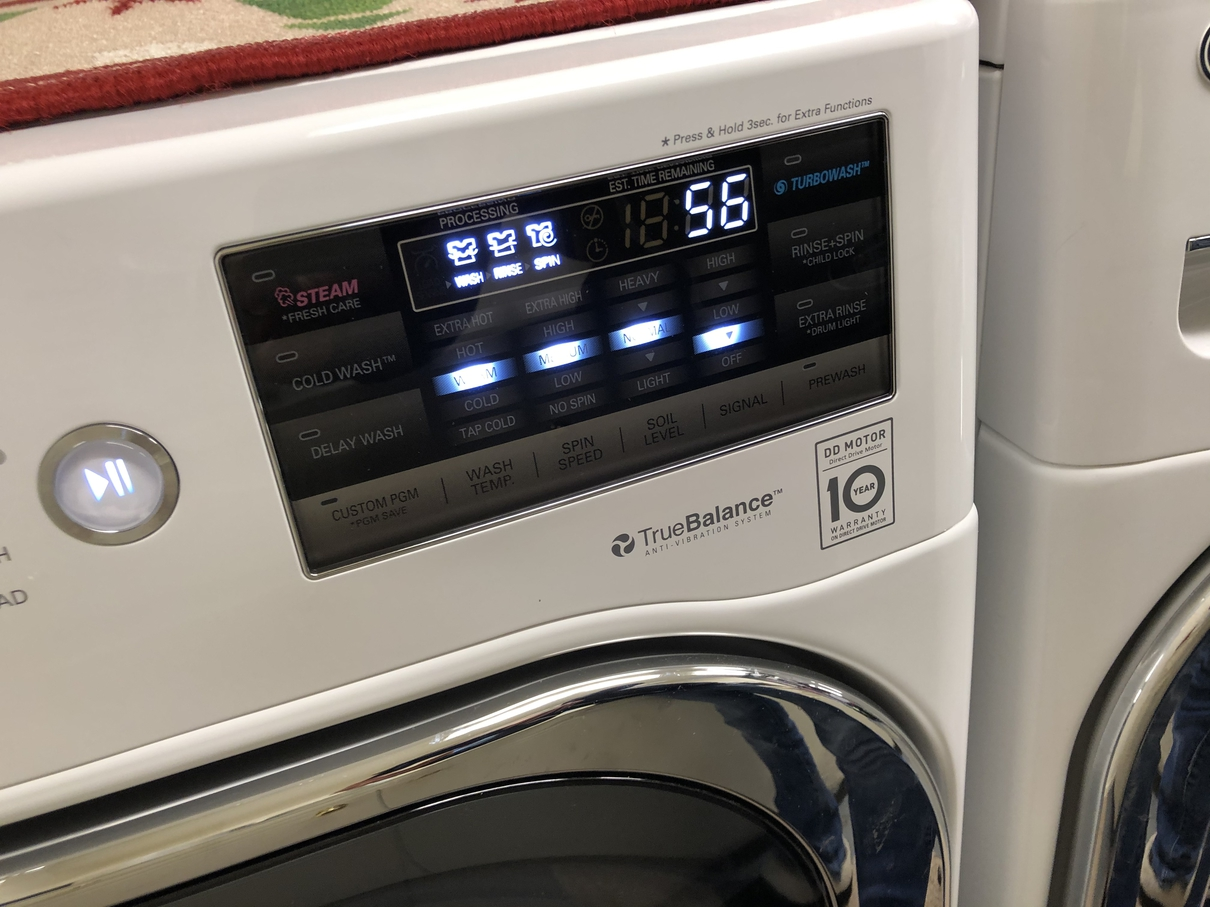status: (366, 157, 781, 320)
